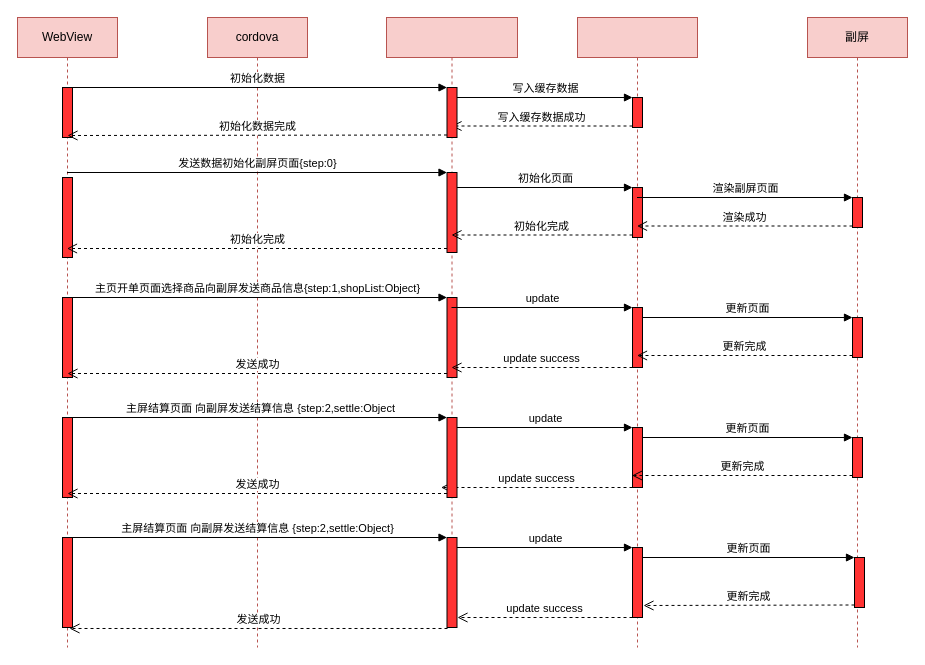
The diagram is 925 pixels wide and 665 high, and some of its shapes have lost their labels. Here are the shapes that lost their labels. From the top down, the box of each, then its label:
(386, 16, 518, 628): 副屏 plugin
(576, 16, 698, 648): 副屏 controll
